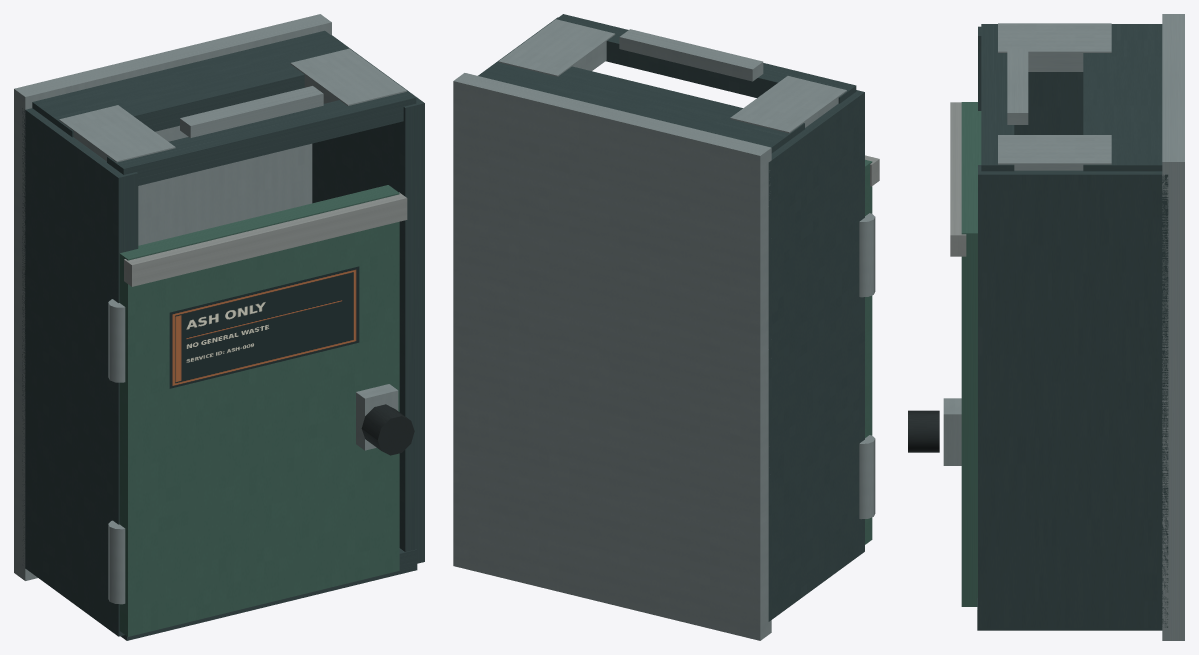
File: PZ_WallAshContainer.glb
3 renders of one model, left to right at view 1: azimuth 30°, elevation 25°; view 2: azimuth 150°, elevation 25°; view 3: azimuth 270°, elevation 25°, orthographic.
Visible parts, largest first — view 1: RENDER_AshContainer_Door_HINGE_Z_CleanOutDoor_Powdercoat_Mos, RENDER_AshContainer_WallHousing_FIXED_Housing_LeftWall_Slate, RENDER_AshContainer_WallHousing_FIXED_WallMount_Backplate_St, RENDER_AshContainer_WallHousing_FIXED_Housing_RightWall_Slat, RENDER_AshContainer_Door_HINGE_Z_AshID_SmallFrontLabel_AshBa, RENDER_AshContainer_WallHousing_FIXED_Housing_TopRear_SlateP, RENDER_AshContainer_WallHousing_FIXED_Housing_TopFrontLip_Sl, RENDER_AshContainer_Door_HINGE_Z_CleanOutDoor_StainlessBorde, RENDER_AshContainer_WallHousing_FIXED_DepositSlot_SideBracke, RENDER_AshContainer_WallHousing_FIXED_CigaretteSnuffer_Stain, RENDER_AshContainer_WallHousing_FIXED_ServiceHingePin_FIXED_, RENDER_AshContainer_Door_HINGE_Z_CleanOutDoor_LatchKnob_Blac (+2 smaller); view 2: RENDER_AshContainer_WallHousing_FIXED_WallMount_Backplate_St, RENDER_AshContainer_WallHousing_FIXED_Housing_LeftWall_Slate, RENDER_AshContainer_WallHousing_FIXED_Housing_TopRear_SlateP, RENDER_AshContainer_WallHousing_FIXED_DepositSlot_SideBracke, RENDER_AshContainer_WallHousing_FIXED_Housing_TopFrontLip_Sl, RENDER_AshContainer_WallHousing_FIXED_CigaretteSnuffer_Stain, RENDER_AshContainer_WallHousing_FIXED_ServiceHingePin_FIXED_, RENDER_AshContainer_Door_HINGE_Z_CleanOutDoor_Powdercoat_Mos; view 3: RENDER_AshContainer_WallHousing_FIXED_Housing_RightWall_Slat, RENDER_AshContainer_WallHousing_FIXED_WallMount_Backplate_St, RENDER_AshContainer_WallHousing_FIXED_Housing_TopRear_SlateP, RENDER_AshContainer_Door_HINGE_Z_CleanOutDoor_Powdercoat_Mos, RENDER_AshContainer_WallHousing_FIXED_DepositSlot_SideBracke, RENDER_AshContainer_WallHousing_FIXED_Housing_LeftWall_Slate, RENDER_AshContainer_WallHousing_FIXED_Housing_TopFrontLip_Sl, RENDER_AshContainer_Door_HINGE_Z_CleanOutDoor_StainlessBorde, RENDER_AshContainer_WallHousing_FIXED_CigaretteSnuffer_Stain, RENDER_AshContainer_Door_HINGE_Z_CleanOutDoor_LatchKnob_Blac, RENDER_AshContainer_Door_HINGE_Z_CleanOutDoor_LatchHousing_S, RENDER_AshContainer_WallHousing_FIXED_Housing_Bottom_SlatePo.
Boxes of the visible parts, x1,y1,x2,y2 form: RENDER_AshContainer_Door_HINGE_Z_CleanOutDoor_Powdercoat_Mos: [119, 185, 399, 636]; RENDER_AshContainer_WallHousing_FIXED_Housing_LeftWall_Slate: [22, 108, 138, 636]; RENDER_AshContainer_WallHousing_FIXED_WallMount_Backplate_St: [14, 14, 331, 580]; RENDER_AshContainer_WallHousing_FIXED_Housing_RightWall_Slat: [312, 35, 424, 563]; RENDER_AshContainer_Door_HINGE_Z_AshID_SmallFrontLabel_AshBa: [169, 266, 359, 388]; RENDER_AshContainer_WallHousing_FIXED_Housing_TopRear_SlateP: [32, 30, 348, 137]; RENDER_AshContainer_WallHousing_FIXED_Housing_TopFrontLip_Sl: [107, 91, 416, 185]; RENDER_AshContainer_Door_HINGE_Z_CleanOutDoor_StainlessBorde: [124, 192, 407, 286]; RENDER_AshContainer_WallHousing_FIXED_DepositSlot_SideBracke: [59, 48, 406, 162]; RENDER_AshContainer_WallHousing_FIXED_CigaretteSnuffer_Stain: [180, 86, 323, 137]; RENDER_AshContainer_WallHousing_FIXED_ServiceHingePin_FIXED_: [108, 299, 125, 604]; RENDER_AshContainer_Door_HINGE_Z_CleanOutDoor_LatchKnob_Blac: [361, 404, 414, 455]; RENDER_AshContainer_WallHousing_FIXED_WallMount_Backplate_St: [453, 73, 771, 640]; RENDER_AshContainer_WallHousing_FIXED_Housing_LeftWall_Slate: [768, 90, 864, 621]; RENDER_AshContainer_WallHousing_FIXED_Housing_TopRear_SlateP: [479, 61, 804, 153]; RENDER_AshContainer_WallHousing_FIXED_DepositSlot_SideBracke: [498, 19, 846, 133]; RENDER_AshContainer_WallHousing_FIXED_Housing_TopFrontLip_Sl: [556, 14, 856, 103]; RENDER_AshContainer_WallHousing_FIXED_CigaretteSnuffer_Stain: [619, 29, 763, 81]; RENDER_AshContainer_WallHousing_FIXED_ServiceHingePin_FIXED_: [859, 213, 875, 519]; RENDER_AshContainer_Door_HINGE_Z_CleanOutDoor_Powdercoat_Mos: [865, 159, 872, 544]; RENDER_AshContainer_WallHousing_FIXED_Housing_RightWall_Slat: [978, 165, 1168, 628]; RENDER_AshContainer_WallHousing_FIXED_WallMount_Backplate_St: [1162, 14, 1184, 640]; RENDER_AshContainer_WallHousing_FIXED_Housing_TopRear_SlateP: [1083, 24, 1162, 171]; RENDER_AshContainer_Door_HINGE_Z_CleanOutDoor_Powdercoat_Mos: [961, 102, 981, 606]; RENDER_AshContainer_WallHousing_FIXED_DepositSlot_SideBracke: [998, 23, 1111, 170]; RENDER_AshContainer_WallHousing_FIXED_Housing_LeftWall_Slate: [978, 26, 1083, 134]; RENDER_AshContainer_WallHousing_FIXED_Housing_TopFrontLip_Sl: [981, 24, 1014, 171]; RENDER_AshContainer_Door_HINGE_Z_CleanOutDoor_StainlessBorde: [950, 102, 966, 256]; RENDER_AshContainer_WallHousing_FIXED_CigaretteSnuffer_Stain: [1007, 48, 1028, 124]; RENDER_AshContainer_Door_HINGE_Z_CleanOutDoor_LatchKnob_Blac: [908, 410, 939, 452]; RENDER_AshContainer_Door_HINGE_Z_CleanOutDoor_LatchHousing_S: [943, 398, 961, 465]; RENDER_AshContainer_WallHousing_FIXED_Housing_Bottom_SlatePo: [977, 598, 1162, 630].
Bounding box in the file's own units: 0.2725 × 0.406 × 0.2095.
Materials: 7 (7 with a texture image).
